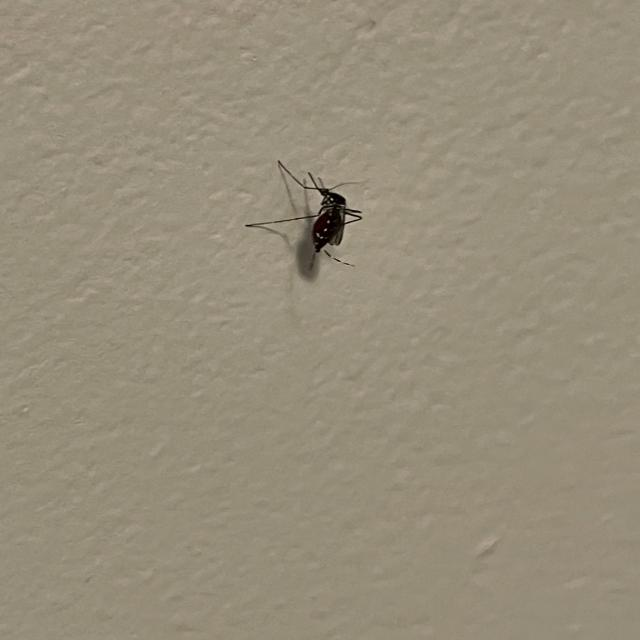albopictus: (237, 154, 370, 273)
